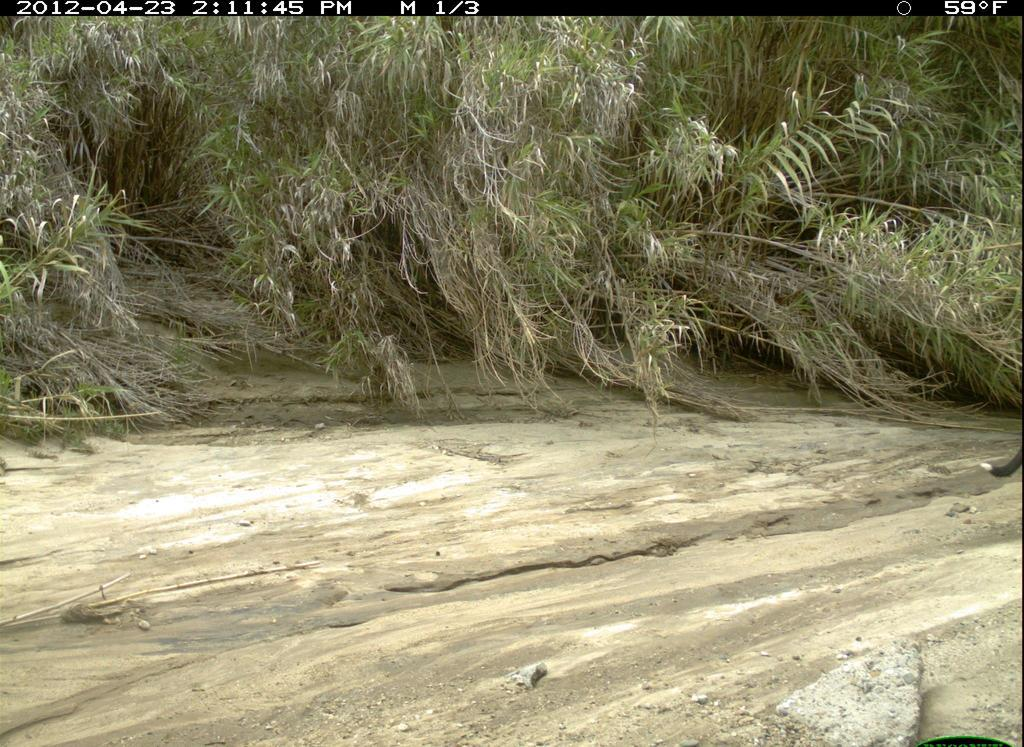dog: (972, 428, 1023, 498)
